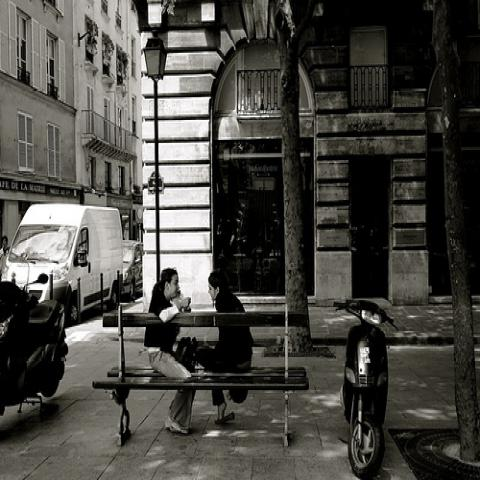car: (122, 240, 143, 302)
motorcycle: (332, 299, 399, 479), (0, 276, 67, 418)
truck: (3, 197, 125, 318)
